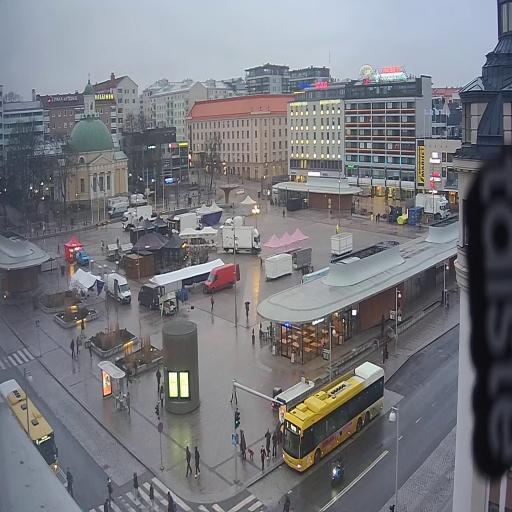bus: (278, 353, 388, 478), (0, 370, 63, 481)
delivery: (201, 258, 241, 296), (220, 224, 263, 256), (412, 190, 452, 222), (102, 270, 134, 309), (138, 277, 166, 315), (122, 201, 155, 233), (171, 207, 203, 237), (220, 212, 247, 229), (107, 199, 128, 220), (75, 248, 93, 271), (131, 188, 149, 208)
two-wheels: (326, 449, 353, 490)
